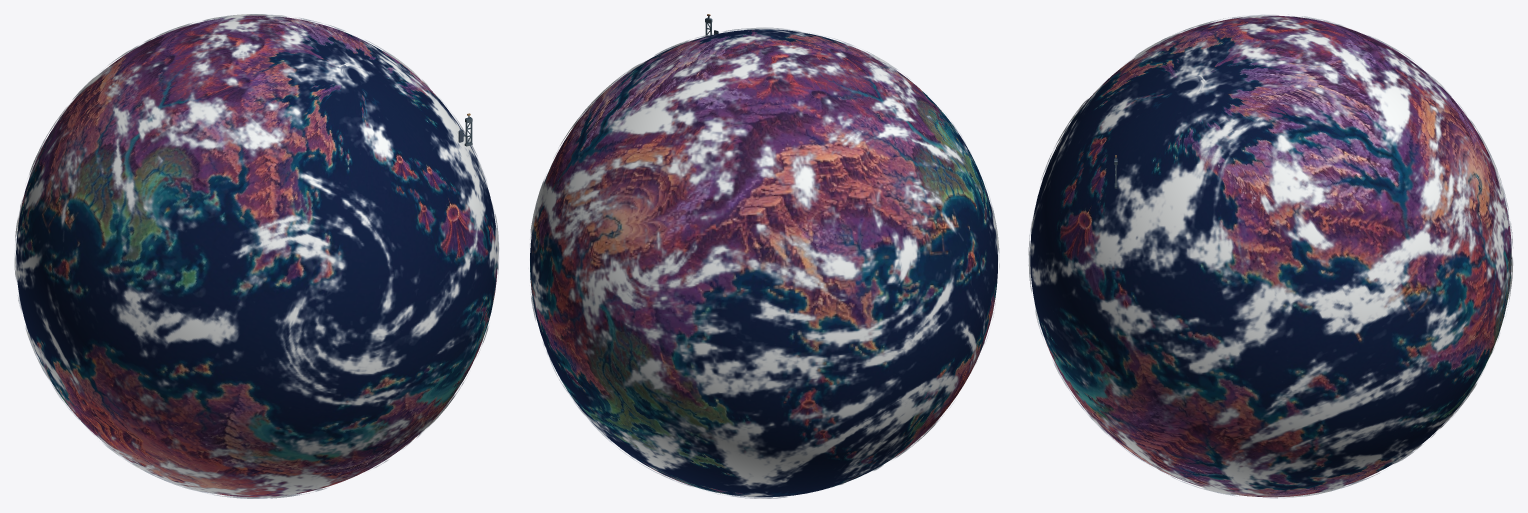
File: colony-belt.glb
3 views of the same model, side by side, from view 1: azimuth 30°, elevation 25°; view 2: azimuth 150°, elevation 25°; view 3: azimuth 270°, elevation 25° (orthographic). The views are drawn at different scales.
Visible parts, largest first — view 1: Colony_Surface, Cloud_Deck; view 2: Colony_Surface, Cloud_Deck; view 3: Colony_Surface, Cloud_Deck.
Boxes of the visible parts, x1=… form: Colony_Surface: x1=16, y1=15, x2=497, y2=497; Cloud_Deck: x1=14, y1=14, x2=499, y2=498; Colony_Surface: x1=530, y1=29, x2=997, y2=497; Cloud_Deck: x1=530, y1=27, x2=999, y2=498; Colony_Surface: x1=1030, y1=15, x2=1511, y2=497; Cloud_Deck: x1=1028, y1=14, x2=1513, y2=498.
Bounding box in the file's own units: 32.2 × 32.21 × 32.22.
3 materials, 2 textured.
